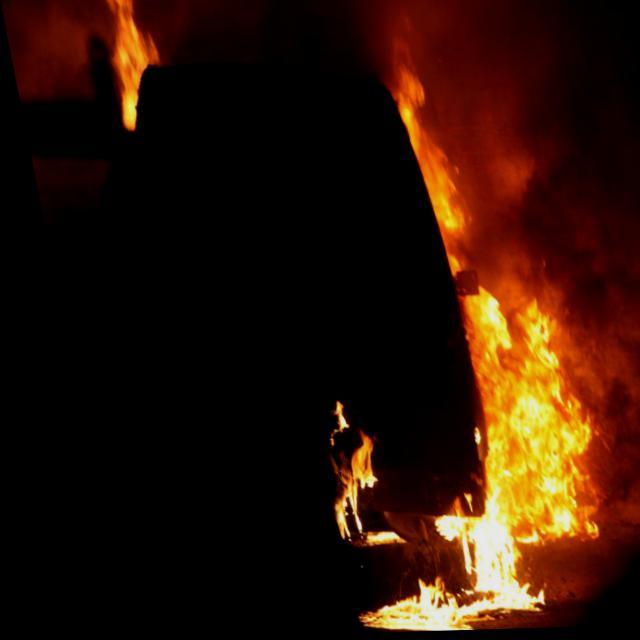Fire: (234, 41, 608, 634), (95, 0, 167, 134)
